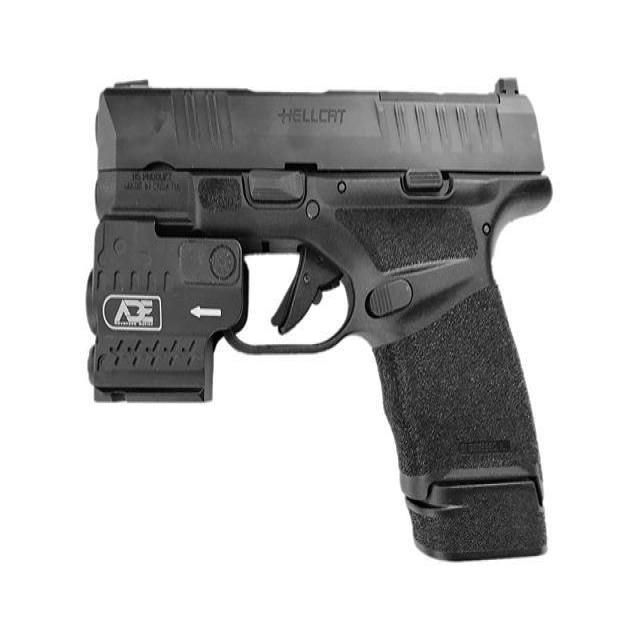HandGun: (84, 79, 555, 565)
